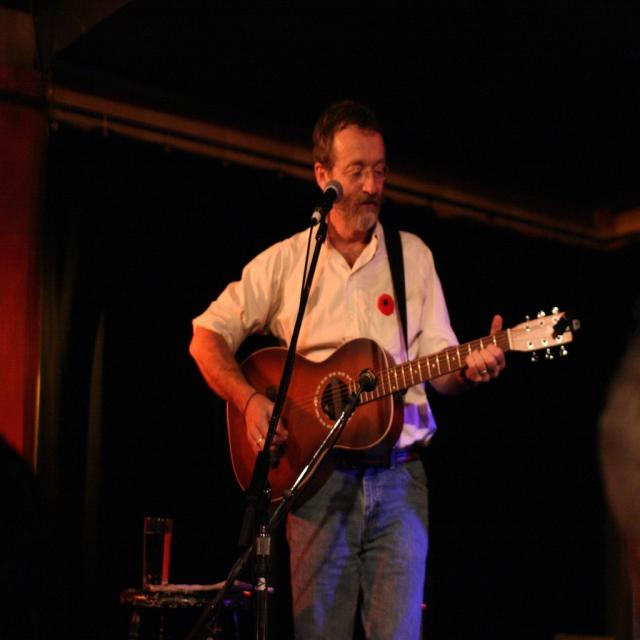guitar: (225, 304, 579, 510)
